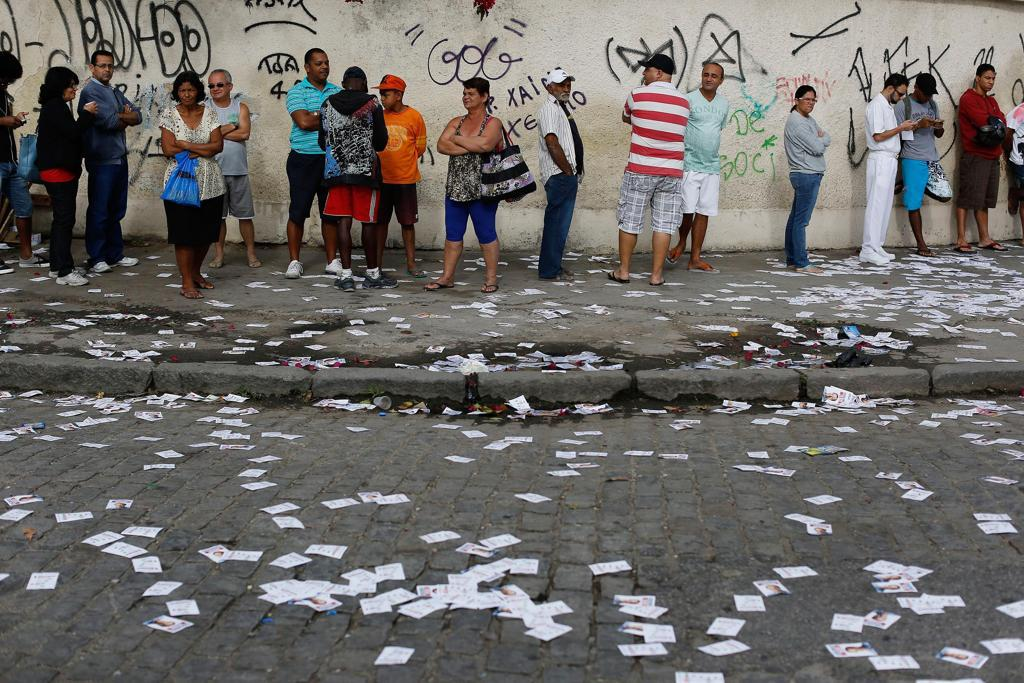face: (177, 82, 197, 106), (313, 54, 330, 81), (210, 74, 226, 100), (98, 57, 114, 82), (462, 87, 480, 109), (703, 64, 718, 90), (380, 86, 395, 109), (555, 77, 570, 100), (802, 90, 816, 114), (918, 82, 932, 105), (61, 80, 76, 101), (642, 65, 656, 85), (982, 72, 996, 92), (894, 83, 907, 104)
